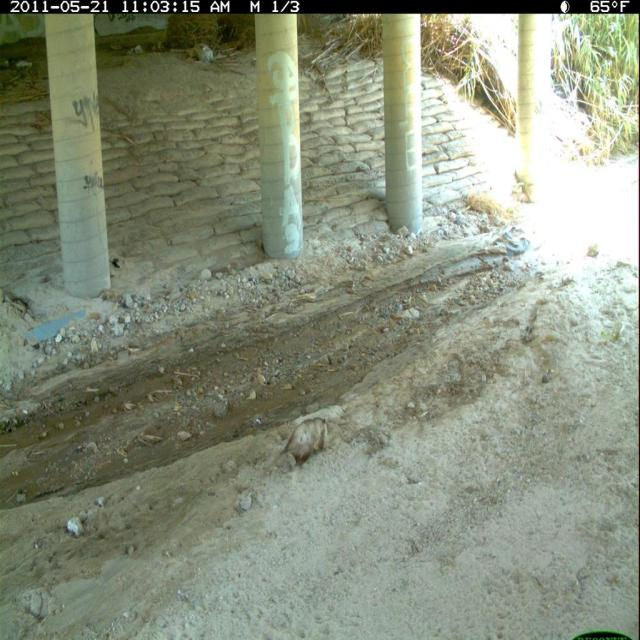opossum: (269, 414, 331, 477)
